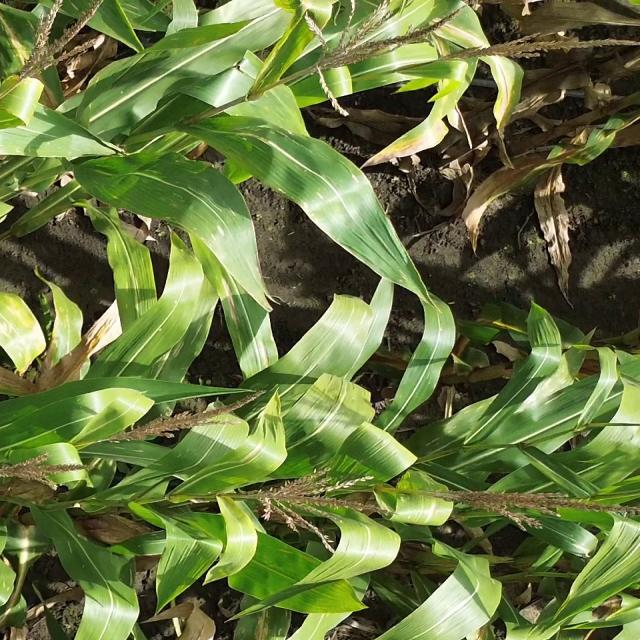gray-leaf-spot: (152, 178, 237, 239), (286, 157, 372, 215), (541, 352, 588, 398), (427, 413, 480, 451), (400, 477, 442, 523), (172, 319, 206, 364), (249, 604, 291, 637), (118, 2, 160, 24)
northern-leaf-blight: (2, 22, 61, 97), (445, 22, 521, 76), (215, 272, 258, 330), (10, 524, 46, 572), (415, 108, 454, 150)
southern-leaf-blight: (55, 307, 80, 353), (72, 393, 105, 418)
